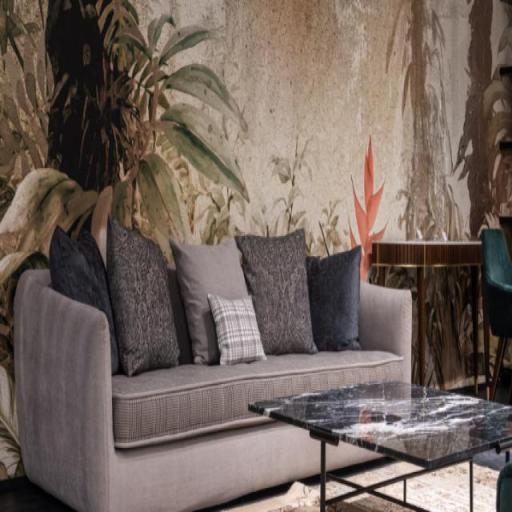sofa: (5, 219, 471, 512)
